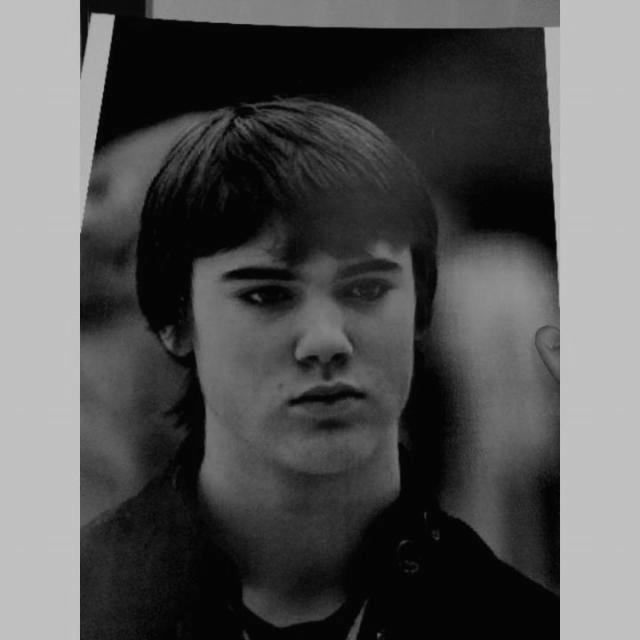fake: (82, 9, 561, 639)
